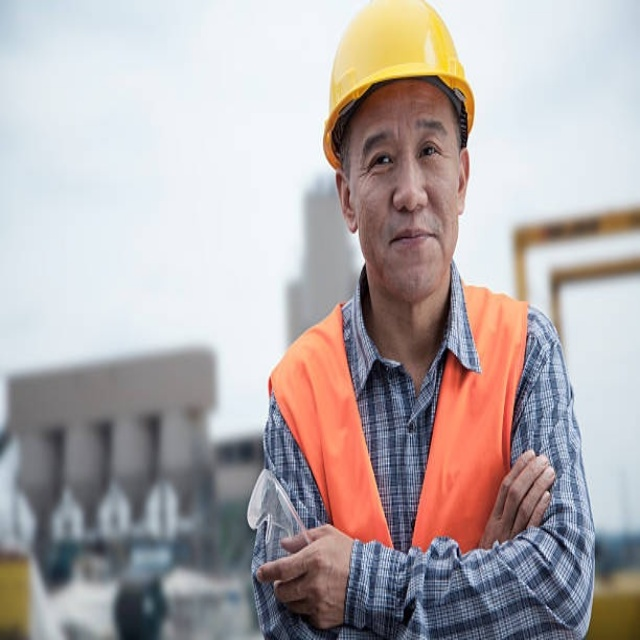Sin_gafas: (357, 118, 455, 182)
Sin_guantes: (254, 523, 355, 632), (479, 449, 556, 552)
Sin_mascara: (379, 218, 443, 276)
